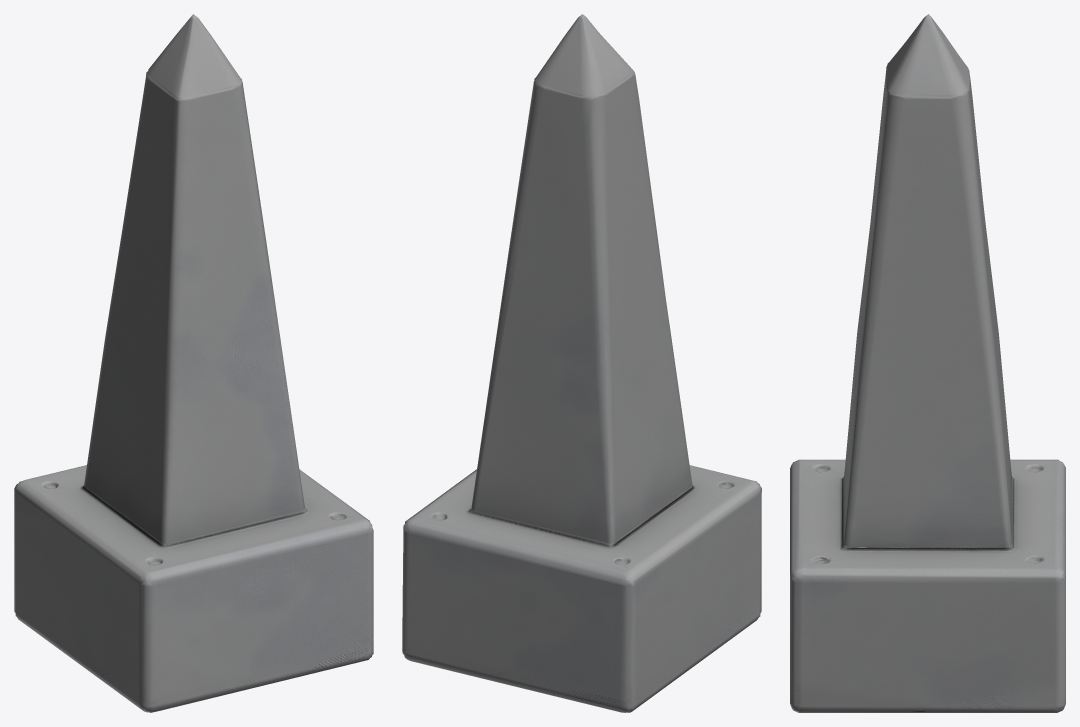
File: grave_small_obelisk.glb
3 renders of one model, left to right at view 1: azimuth 30°, elevation 25°; view 2: azimuth 150°, elevation 25°; view 3: azimuth 270°, elevation 25°, orthographic. The views are drawn at different scales.
Size of the model in its own units: 0.7397 by 1.91 by 0.7397.
1 material, 1 textured.
